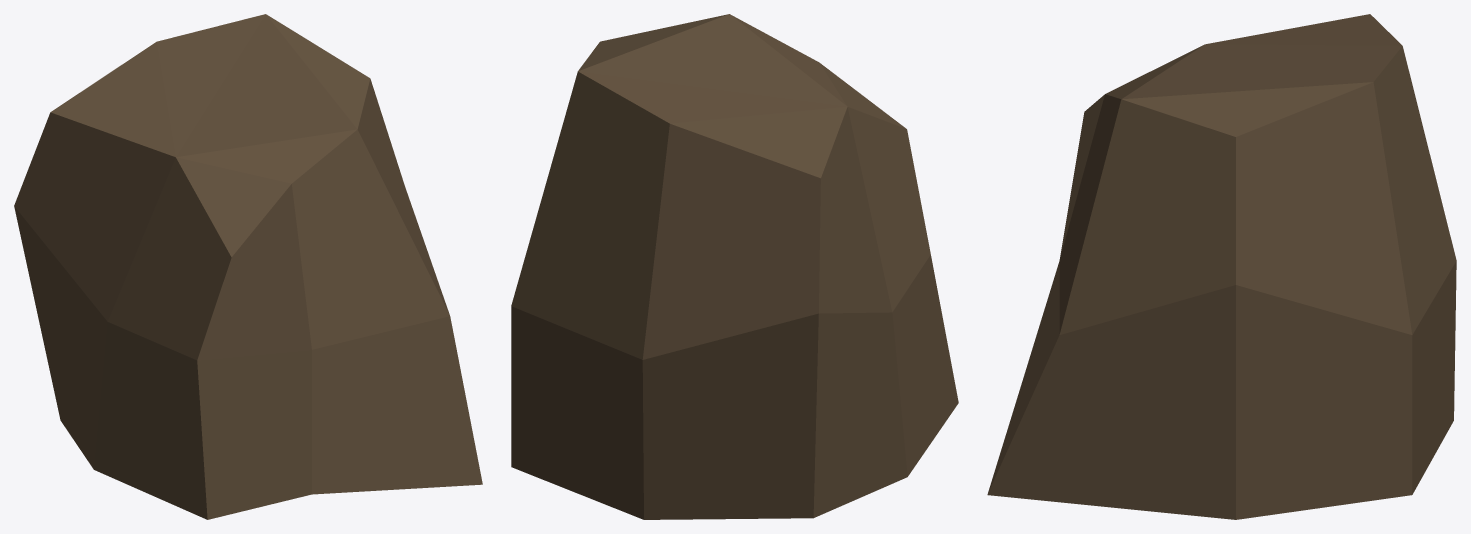
The model's file is FlatRock-A04.fbx.
3 views of the same model, side by side, from view 1: azimuth 30°, elevation 25°; view 2: azimuth 150°, elevation 25°; view 3: azimuth 270°, elevation 25° (orthographic). The views are drawn at different scales.
Visible parts, largest first — view 1: FlatRock-A04; view 2: FlatRock-A04; view 3: FlatRock-A04.
Boxes of the visible parts, x1=… form: FlatRock-A04: x1=14, y1=14, x2=482, y2=519; FlatRock-A04: x1=511, y1=14, x2=958, y2=519; FlatRock-A04: x1=987, y1=14, x2=1456, y2=519.
Size of the model in its own units: 233 by 244 by 266.
